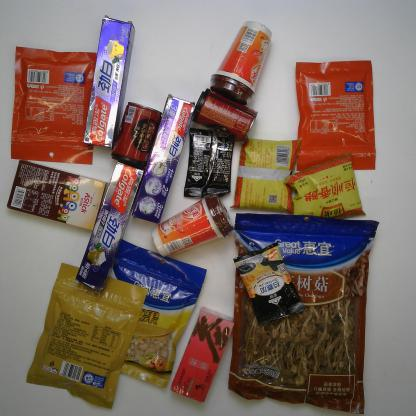Canned Food: (191, 87, 259, 144), (110, 101, 163, 169)
Dessert: (6, 159, 110, 231)
Dried Food: (227, 211, 380, 415)
Dried Fruit: (25, 261, 149, 410), (105, 238, 209, 390), (8, 46, 95, 166), (295, 59, 377, 174)
Instant Drink: (231, 241, 306, 327), (169, 306, 235, 403), (209, 21, 274, 108), (150, 194, 235, 258), (183, 126, 235, 198)
Personal Hygiene: (73, 158, 147, 293), (130, 92, 197, 226), (82, 14, 138, 151)
Seasoner: (282, 152, 367, 220), (228, 137, 302, 213)
